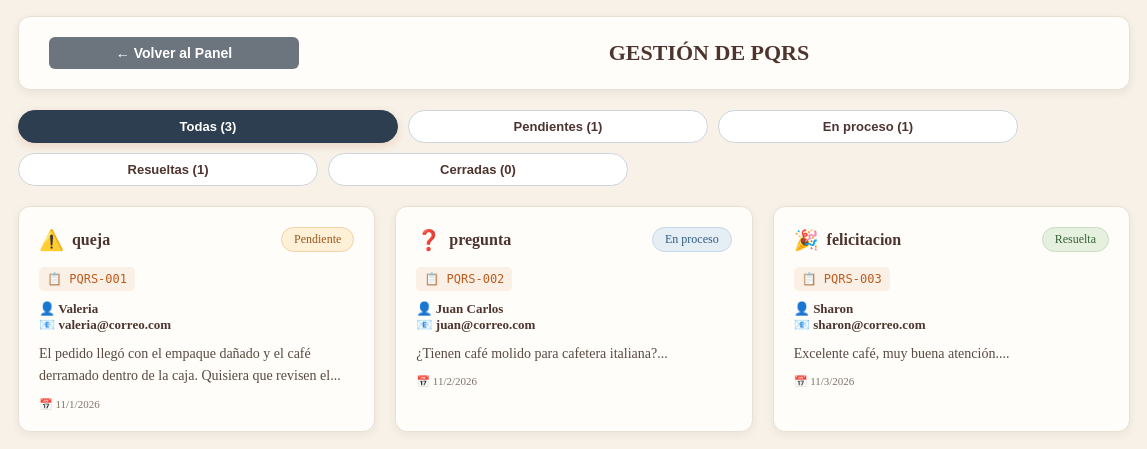
Test case: VerPqrs - ver PQRS › filtros › filtrar por un estado sin registros muestra el mensaje vacío
Expected: the heading "GESTIÓN DE PQRS" is shown, left=609, top=40, right=809, bottom=65
Click the button "Cerradas (0)". click: (478,170)
box: left=328, top=153, right=628, bottom=186
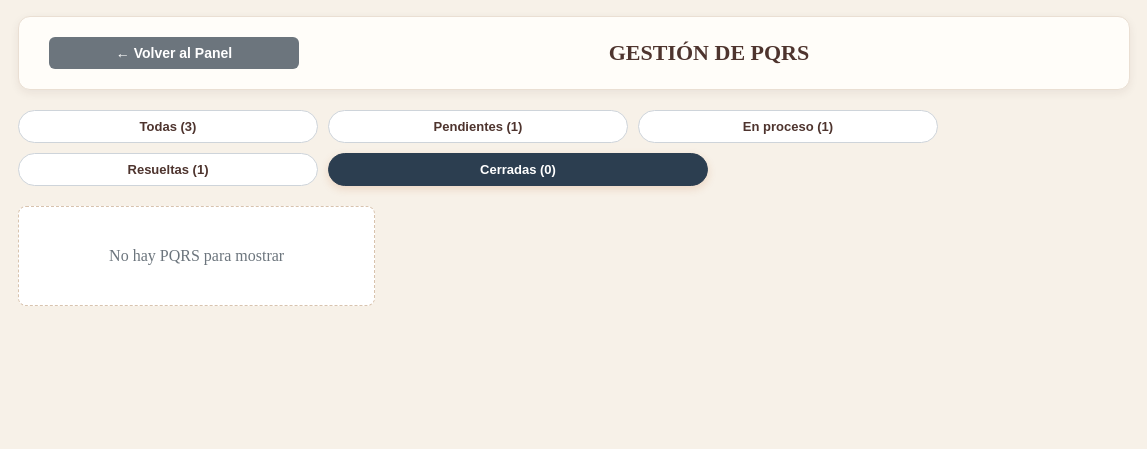
Now the text "No hay PQRS para mostrar" is shown, box left=18, top=206, right=375, bottom=306
